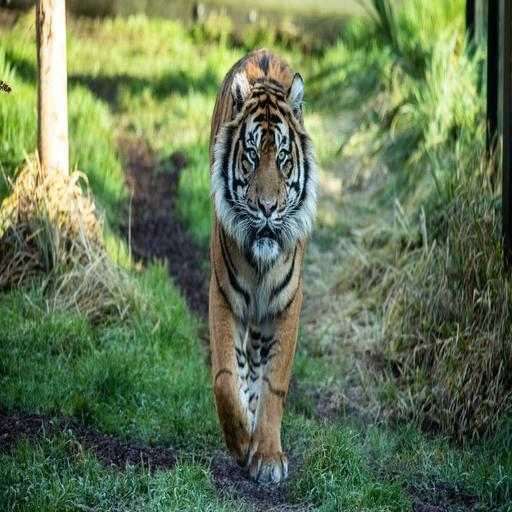Tiger: (196, 45, 320, 493)
